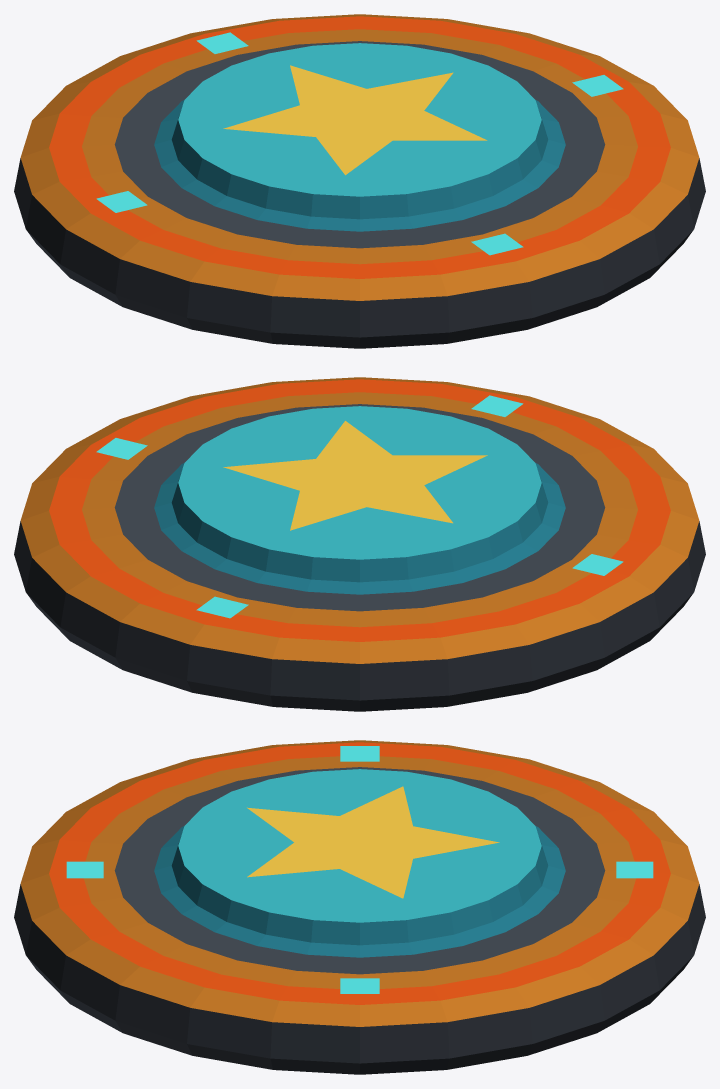
The model's file is magma_pressure_switch.obj.
3 renders of one model, top to bottom at view 1: azimuth 30°, elevation 25°; view 2: azimuth 150°, elevation 25°; view 3: azimuth 270°, elevation 25°, orthographic.
Visible parts, largest first — view 1: magma_pressure_switch; view 2: magma_pressure_switch; view 3: magma_pressure_switch.
Boxes of the visible parts, box(x1,y1,x2,y2) form: magma_pressure_switch: box(14, 14, 705, 348); magma_pressure_switch: box(14, 377, 705, 711); magma_pressure_switch: box(14, 740, 705, 1074).
Bounding box in the file's own units: 3.16 × 0.457 × 3.16.
